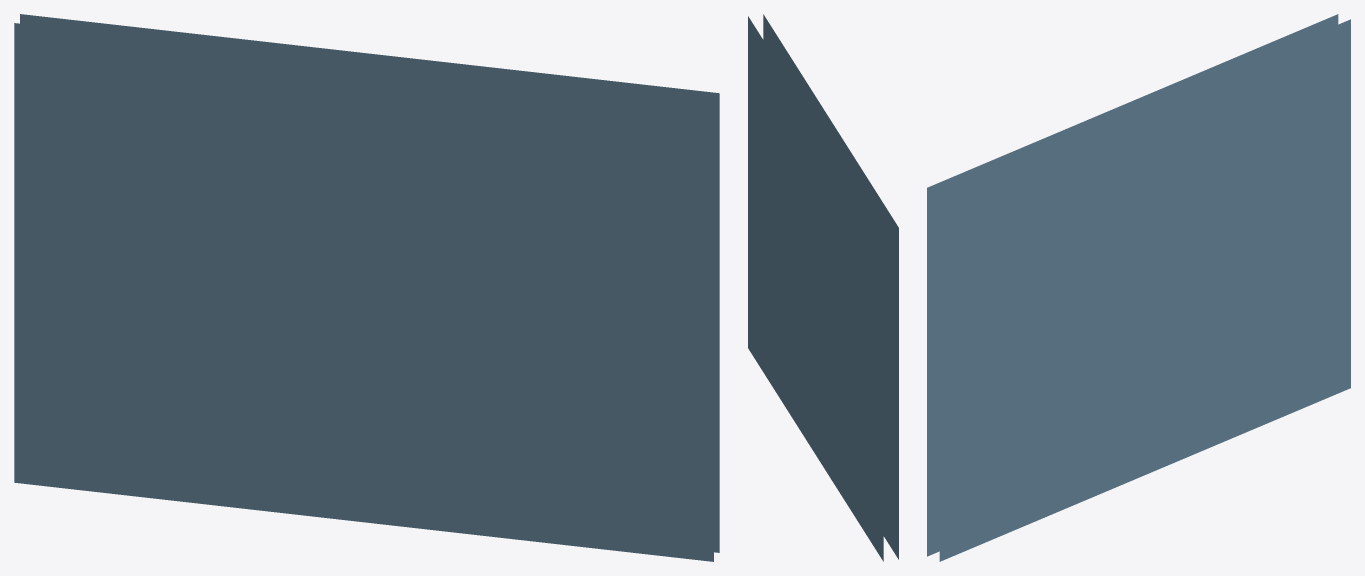
Rendered from Door_Single.fbx.
The picture shows the model from 3 angles, left to right: view 1: azimuth 30°, elevation 25°; view 2: azimuth 150°, elevation 25°; view 3: azimuth 270°, elevation 25°; orthographic projection. The views are drawn at different scales.
Parts seen in each view (by area): view 1: Door_Single; view 2: Door_Single; view 3: Door_Single.
Part boxes in pixels (x1,y1,x2,y2): Door_Single: [14, 14, 719, 561]; Door_Single: [748, 14, 898, 561]; Door_Single: [927, 14, 1350, 561].
Size of the model in its own units: 479 by 460 by 479.
